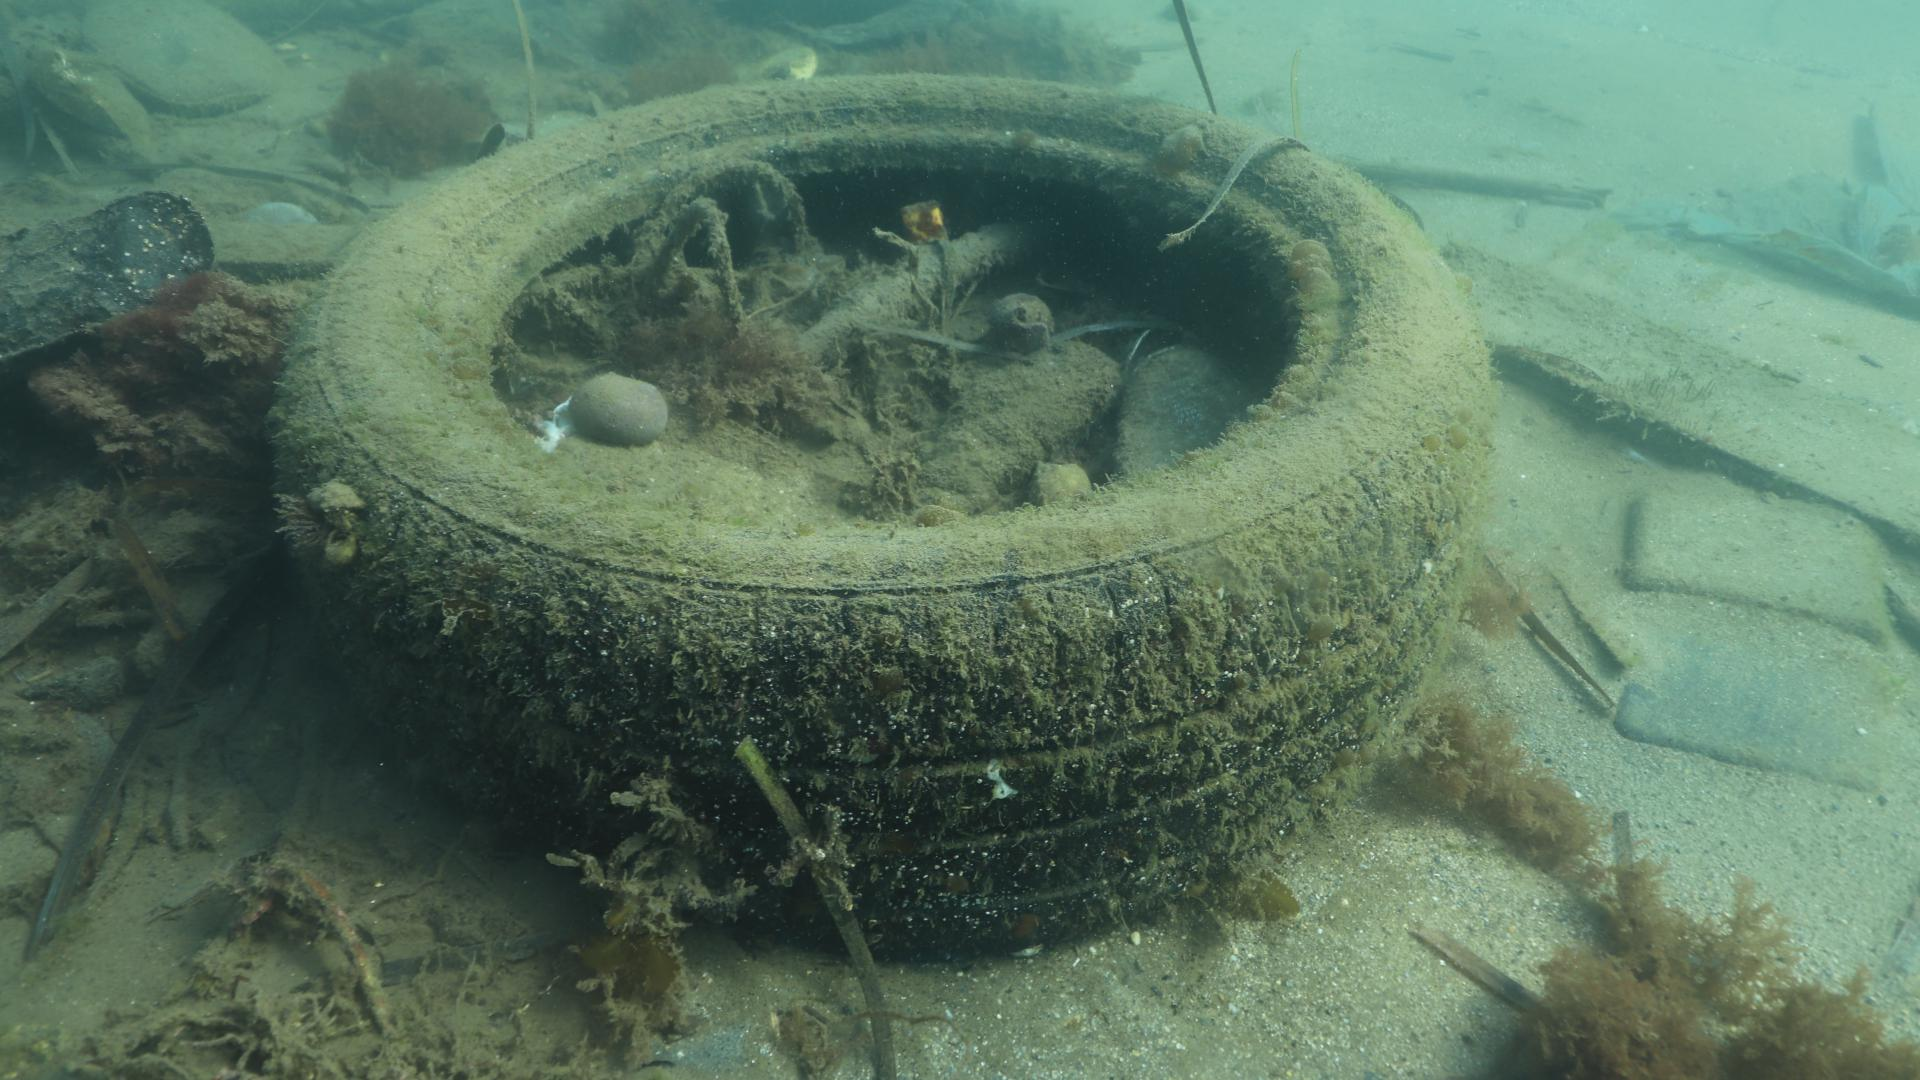tire: (268, 70, 1494, 965)
